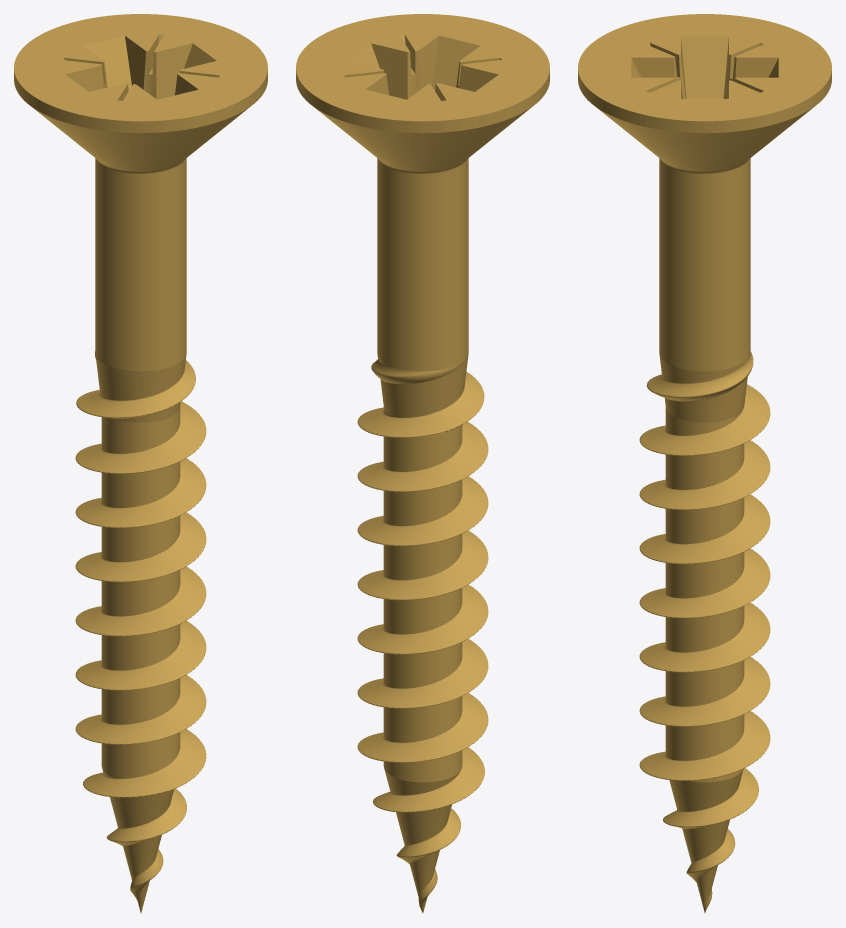
The model's file is model_full.glb.
3 renders of one model, left to right at view 1: azimuth 30°, elevation 25°; view 2: azimuth 150°, elevation 25°; view 3: azimuth 270°, elevation 25°, orthographic.
Parts seen in each view (by area): view 1: geometry_0; view 2: geometry_0; view 3: geometry_0.
Boxes of the visible parts, bbox=[...] form: geometry_0: bbox=[14, 14, 267, 913]; geometry_0: bbox=[296, 14, 549, 913]; geometry_0: bbox=[578, 14, 831, 912].
Size of the model in its own units: 0.0068 by 0.025 by 0.0068.
